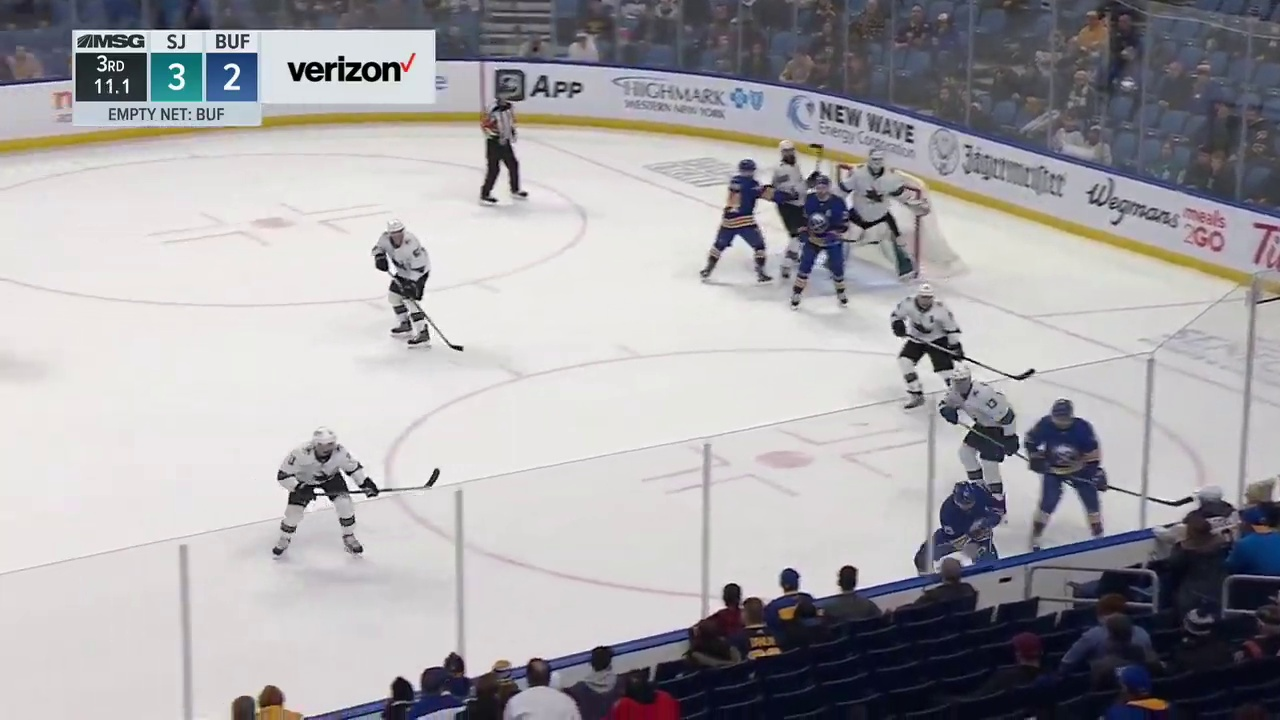goalie: (832, 148, 930, 281)
hockeyplayer: (272, 428, 379, 561), (937, 367, 1021, 524), (1024, 398, 1108, 552), (701, 159, 798, 285), (891, 283, 964, 413), (914, 480, 1005, 576), (371, 219, 432, 351), (791, 176, 849, 309), (773, 140, 820, 282)
referee: (479, 86, 529, 206)
